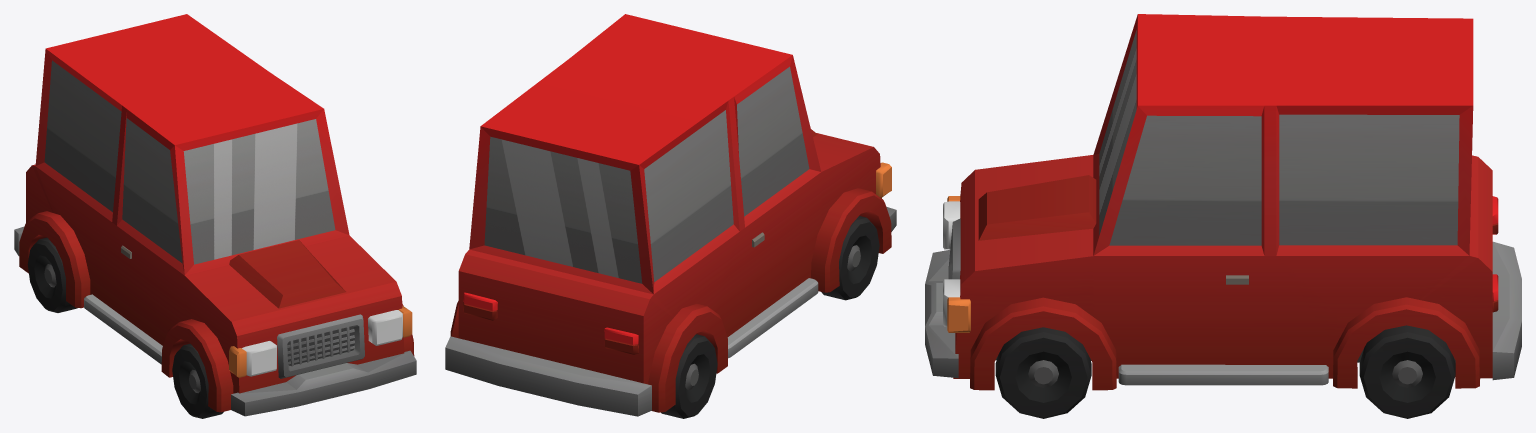
File: Car_5_6.glb
3 renders of one model, left to right at view 1: azimuth 30°, elevation 25°; view 2: azimuth 150°, elevation 25°; view 3: azimuth 270°, elevation 25°, orthographic. The views are drawn at different scales.
Visible parts, largest first — view 1: Car_5_6, W_br, W_fr; view 2: Car_5_6, W_br, W_fr; view 3: Car_5_6, W_bl, W_fl.
Part boxes in pixels (<box>): Car_5_6: <box>14,14,416,416</box>; W_br: <box>27,237,77,312</box>; W_fr: <box>172,343,223,418</box>; Car_5_6: <box>445,14,896,416</box>; W_br: <box>661,334,717,418</box>; W_fr: <box>821,216,879,300</box>; Car_5_6: <box>925,14,1521,390</box>; W_bl: <box>1359,325,1455,418</box>; W_fl: <box>995,327,1091,418</box>.
Bounding box in the file's own units: 1.13 × 1.3 × 2.33.
6 materials, 6 textured.
